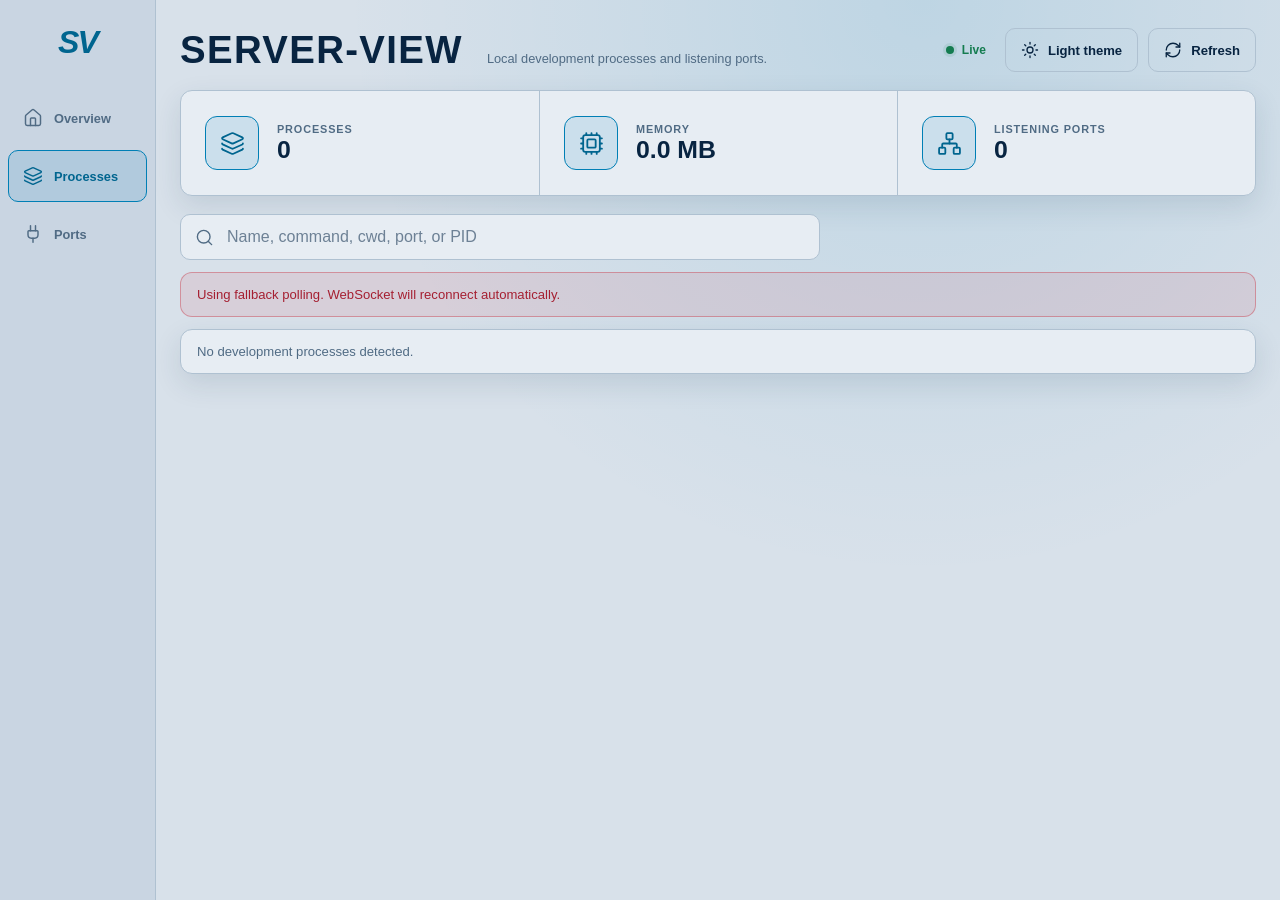
Test: App › renders functional navigation and labels the current theme
Expected: the text "No development processes detected." is shown, [180,329,1256,374]
Step 1. Click the button "Light theme" → (1072, 50), box [1005,28,1138,72]
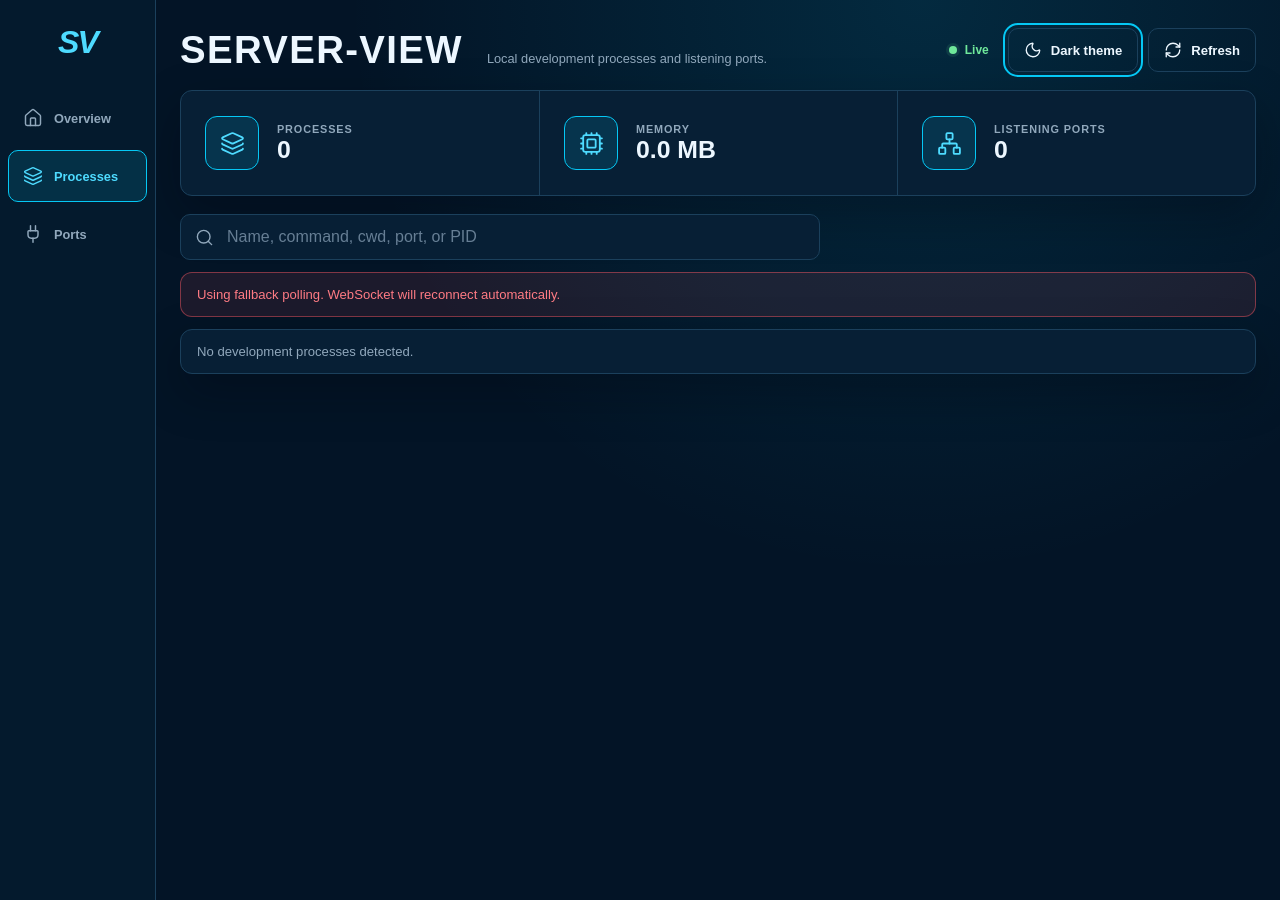
Expected: the button "Dark theme" is shown, [1008,28,1138,72]
